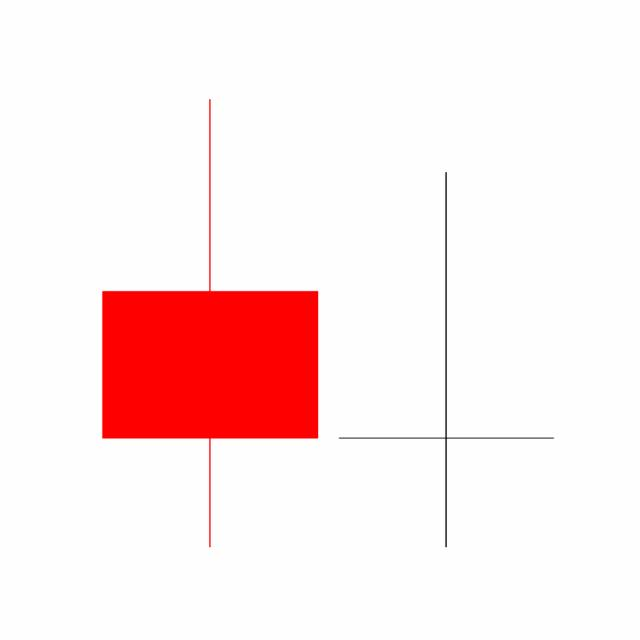Spinning Top: (327, 168, 565, 552)
